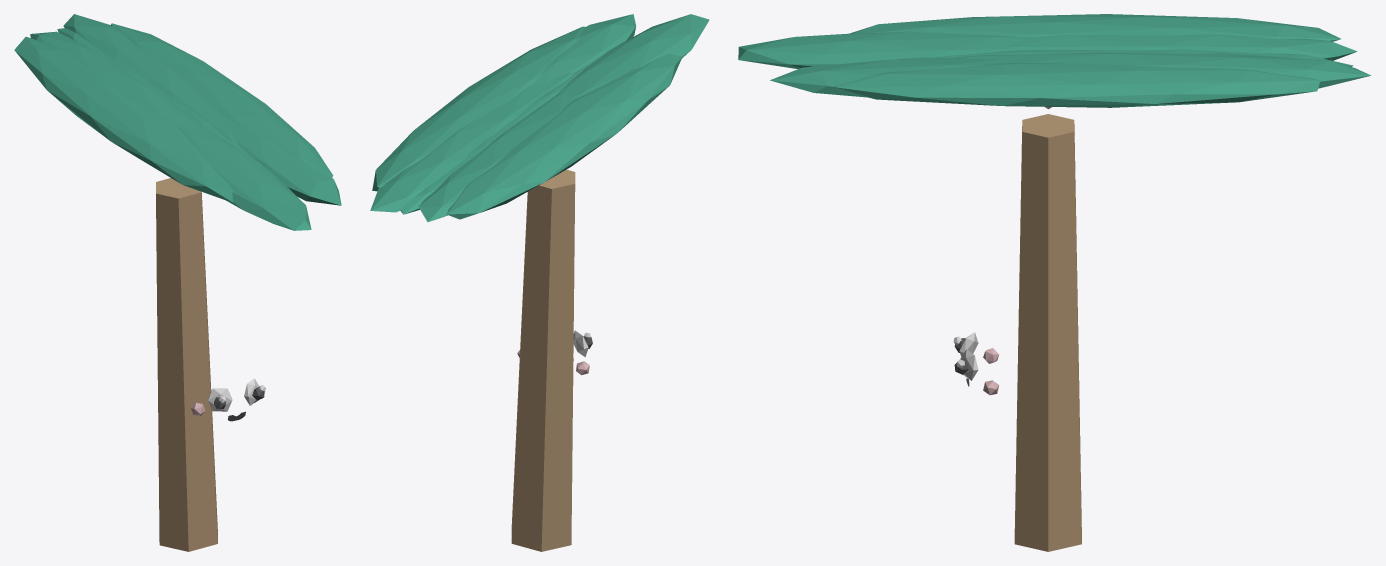
File: caryota-urens.glb
3 views of the same model, side by side, from view 1: azimuth 30°, elevation 25°; view 2: azimuth 150°, elevation 25°; view 3: azimuth 270°, elevation 25° (orthographic). The views are drawn at different scales.
Visible parts, largest first — view 1: trunk, frond3, frond0, frond2, frond6, frond1, frond4, frond5; view 2: trunk, frond3, frond0, frond6, frond2, frond4, frond1, frond5; view 3: trunk, frond0, frond3, frond2, frond6, frond4, frond1, frond5.
Part boxes in pixels (bbox=[...]): trunk: bbox=[156, 178, 217, 551]; frond3: bbox=[14, 36, 233, 202]; frond0: bbox=[110, 23, 333, 177]; frond2: bbox=[178, 124, 311, 230]; frond6: bbox=[63, 14, 237, 144]; frond1: bbox=[223, 121, 341, 205]; frond4: bbox=[30, 31, 200, 129]; frond5: bbox=[57, 28, 262, 165]; trunk: bbox=[511, 169, 575, 551]; frond3: bbox=[446, 53, 682, 219]; frond0: bbox=[372, 26, 585, 191]; frond6: bbox=[370, 72, 574, 212]; frond2: bbox=[557, 14, 709, 98]; frond4: bbox=[418, 90, 576, 221]; frond1: bbox=[535, 14, 636, 84]; frond5: bbox=[400, 55, 602, 214]; trunk: bbox=[1014, 114, 1081, 551]; frond0: bbox=[834, 63, 1320, 107]; frond3: bbox=[850, 14, 1340, 41]; frond2: bbox=[738, 31, 1024, 68]; frond6: bbox=[955, 52, 1370, 88]; frond4: bbox=[1005, 34, 1357, 60]; frond1: bbox=[770, 58, 1006, 97]; frond5: bbox=[897, 49, 1353, 66].
Bounding box in the file's own units: 0.2307 × 0.6295 × 0.7363.
